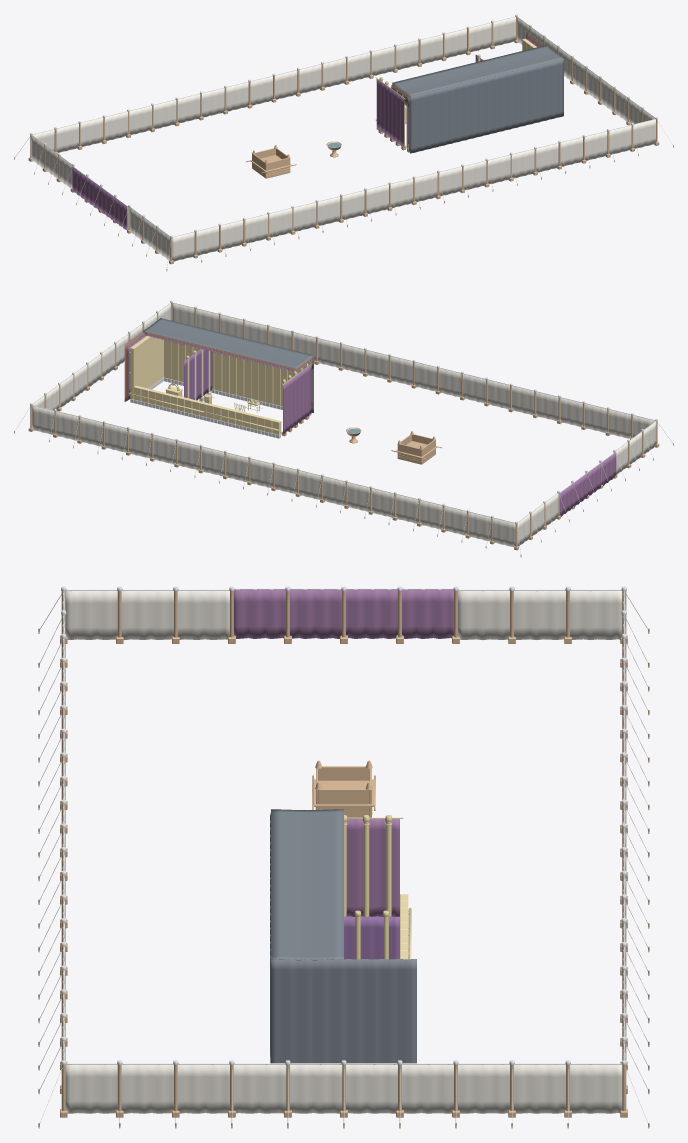
File: tabernacle.glb
3 views of the same model, one above another, from view 1: azimuth 30°, elevation 25°; view 2: azimuth 150°, elevation 25°; view 3: azimuth 270°, elevation 25° (orthographic). The views are drawn at different scales.
Parts seen in each view (by area): view 1: court_062_hanging, court_061_hanging, coverings_005_north, coverings_004_roof, court_063_hanging, door_001_screen, gate_001_gate, court_065_hanging, court_064_hanging, altar_001_altar; view 2: court_061_hanging, court_062_hanging, coverings_004_roof, court_063_hanging, gate_001_gate, door_001_screen, ark_002_veil, court_065_hanging, court_064_hanging, altar_001_altar; view 3: court_063_hanging, coverings_006_west, coverings_004_roof, gate_001_gate, court_064_hanging, court_065_hanging, door_001_screen, altar_001_altar, ark_002_veil, court_062_hanging, court_061_hanging.
Part boxes in pixels (x1,y1,x2,y2): court_062_hanging: (172,119,655,261); court_061_hanging: (32,16,515,152); coverings_005_north: (410,59,563,153); coverings_004_roof: (392,45,563,96); court_063_hanging: (517,16,655,124); door_001_screen: (375,77,405,147); gate_001_gate: (72,166,127,231); court_065_hanging: (31,135,72,188); court_064_hanging: (130,207,170,260); altar_001_altar: (246,145,296,178); court_061_hanging: (32,405,515,547); court_062_hanging: (172,302,655,438); coverings_004_roof: (143,318,313,368); court_063_hanging: (32,302,170,410); gate_001_gate: (559,452,616,516); door_001_screen: (282,363,312,433); ark_002_veil: (184,349,212,400); court_065_hanging: (517,493,558,546); court_064_hanging: (616,421,656,474); altar_001_altar: (391,431,441,464); court_063_hanging: (65,1063,622,1113); coverings_006_west: (271,959,416,1063); coverings_004_roof: (271,809,343,960); gate_001_gate: (234,588,453,638); court_064_hanging: (65,589,229,640); court_065_hanging: (458,589,622,639); door_001_screen: (346,817,403,916); altar_001_altar: (312,760,375,819); ark_002_veil: (344,916,399,959); court_062_hanging: (62,591,64,1060); court_061_hanging: (623,591,625,1060).
Bounding box in the file's own units: 105 × 11.68 × 54.56.
